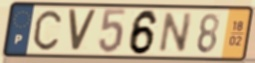5: (97, 7, 128, 57)
6: (126, 8, 161, 57)
8: (195, 12, 221, 55)
C: (32, 9, 63, 53)
N: (156, 11, 195, 55)
V: (66, 8, 99, 54)
